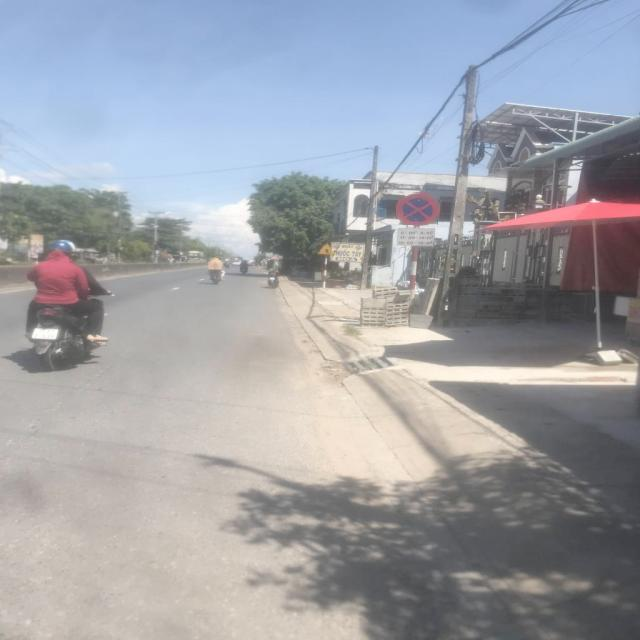cam_dung_xe_va_do_xe: (396, 192, 440, 225)
giao_nhau_voi_duong_khong_uu_tien: (318, 242, 334, 255)
khac: (397, 228, 435, 246)
